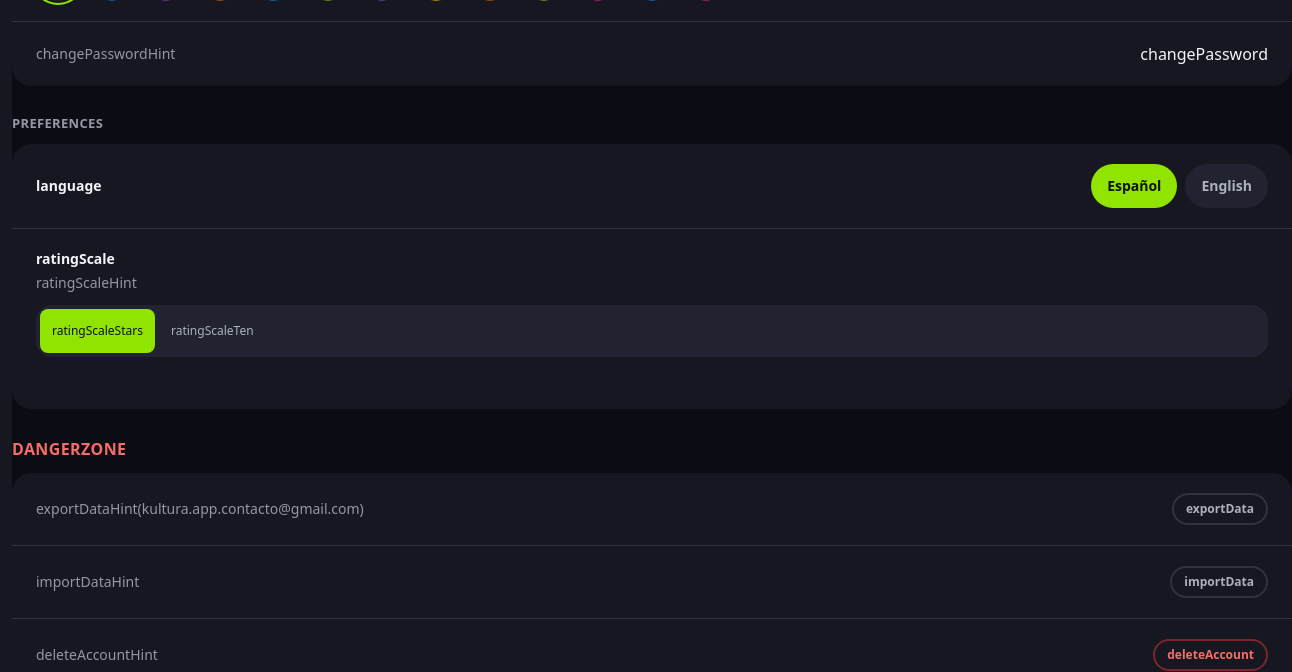
Scenario: Ajustes › escala de notas › si falla, vuelve atrás y lo dice (role=alert)
The width and height of the screenshot is (1292, 672).
(page scrolled)
Click the radio button labelled "ratingScaleTen": click(212, 331) [159, 309, 266, 353]
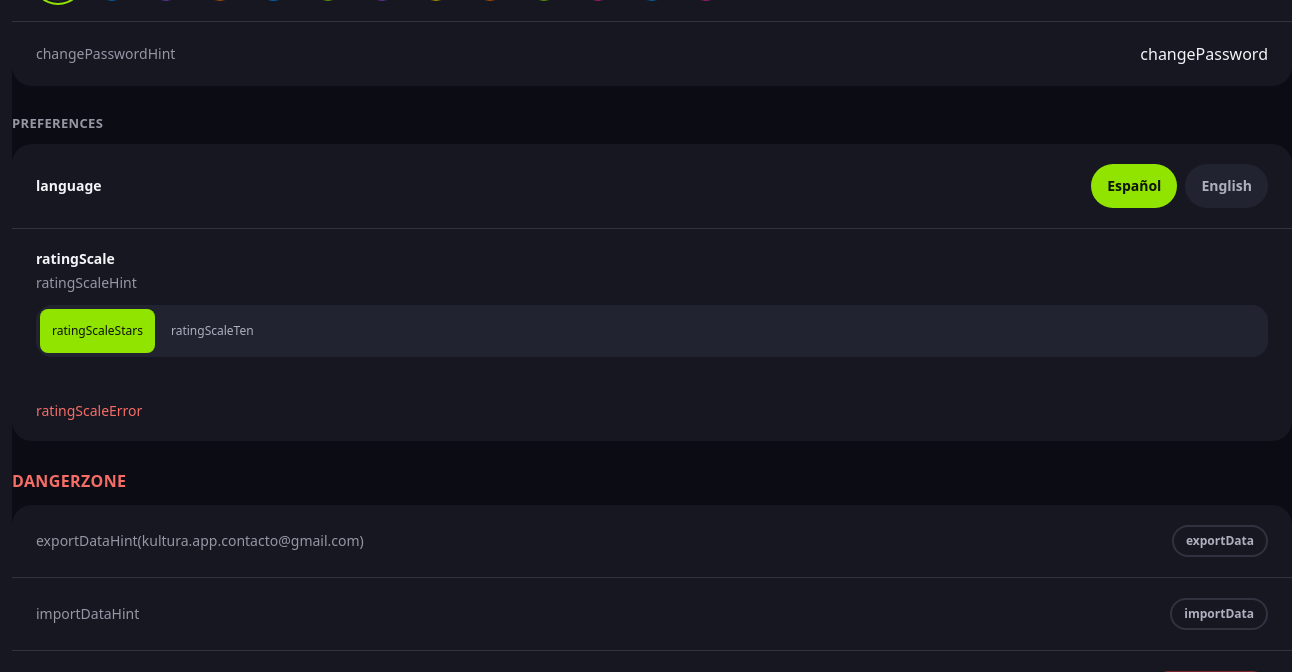
Check: the message "ratingScaleError" is shown, box [36, 401, 142, 420]
